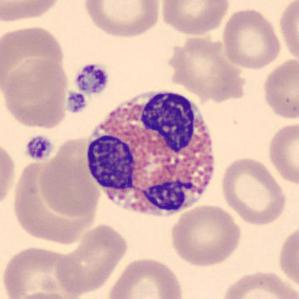Eosinophil: (82, 80, 224, 226)
Platelets: (72, 60, 112, 97), (23, 134, 55, 162), (64, 90, 88, 114)
RBC: (163, 35, 252, 104), (36, 133, 102, 221), (54, 222, 131, 296), (0, 57, 70, 131), (0, 22, 68, 98), (218, 155, 288, 226), (168, 203, 243, 268), (0, 244, 83, 299), (220, 6, 283, 71), (105, 255, 186, 299), (81, 0, 162, 40), (158, 0, 232, 36), (260, 56, 299, 122), (218, 267, 297, 299), (266, 120, 298, 186), (0, 0, 65, 25), (276, 221, 298, 292), (277, 0, 298, 64), (0, 138, 17, 211), (7, 289, 82, 299)
